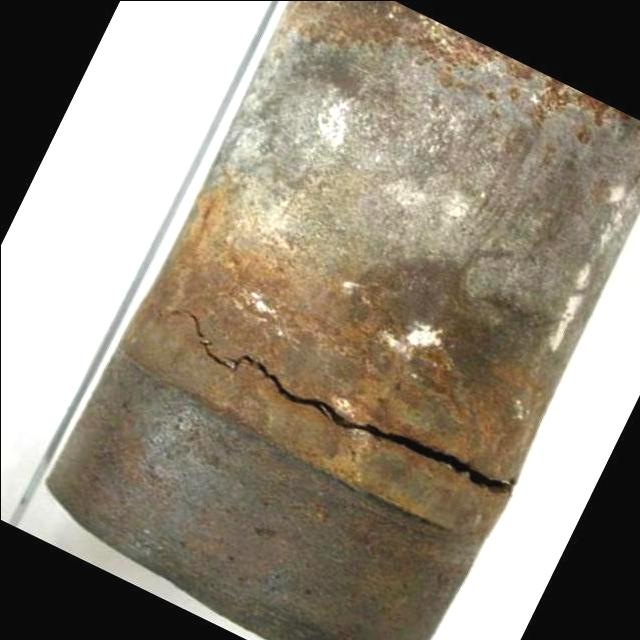defect: (164, 303, 513, 499)
